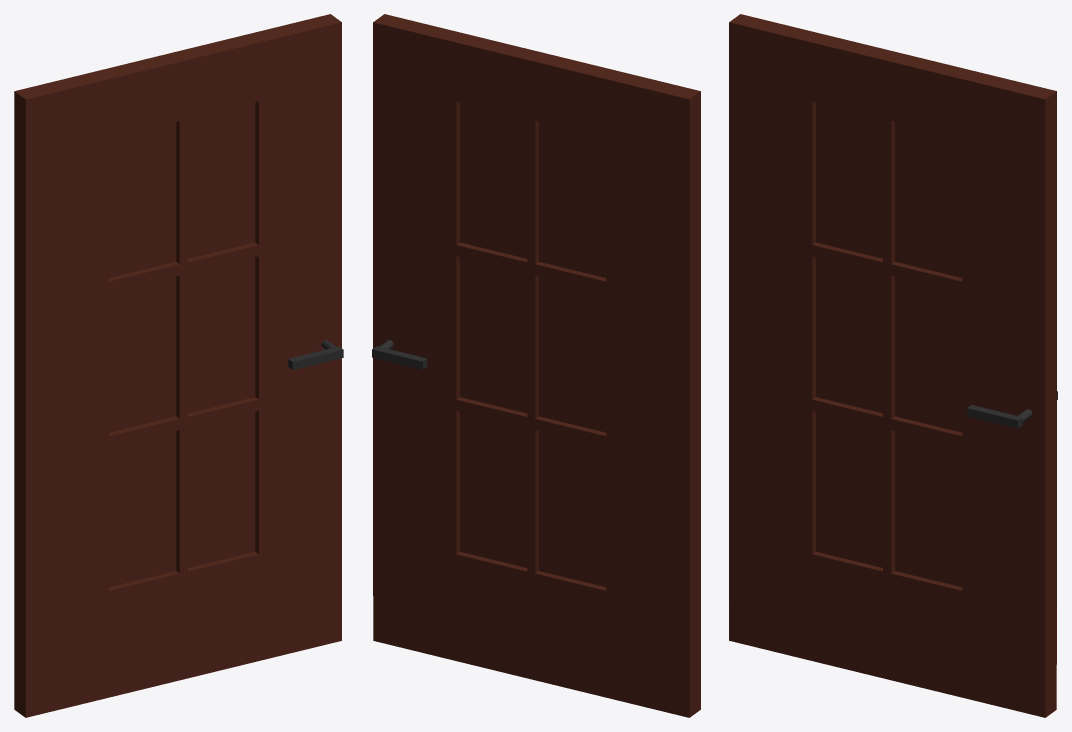
The model's file is Balken.fbx_T_r.fbx.
3 renders of one model, left to right at view 1: azimuth 30°, elevation 25°; view 2: azimuth 150°, elevation 25°; view 3: azimuth 330°, elevation 25°, orthographic.
Parts seen in each view (by area): view 1: Tür, Türklinke 1; view 2: Tür, Türklinke 2; view 3: Tür, Türklinke 1.
Part boxes in pixels (<box>): Tür: <box>14,14,341,717</box>; Türklinke 1: <box>288,340,343,369</box>; Tür: <box>373,14,700,717</box>; Türklinke 2: <box>372,340,427,369</box>; Tür: <box>729,14,1056,717</box>; Türklinke 1: <box>967,405,1032,428</box>.
Bounding box in the file's own units: 1.19 × 2.23 × 0.2598.
